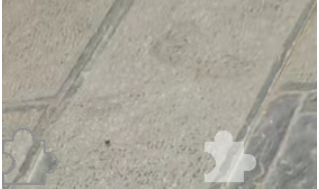target: (200, 127, 257, 185)
